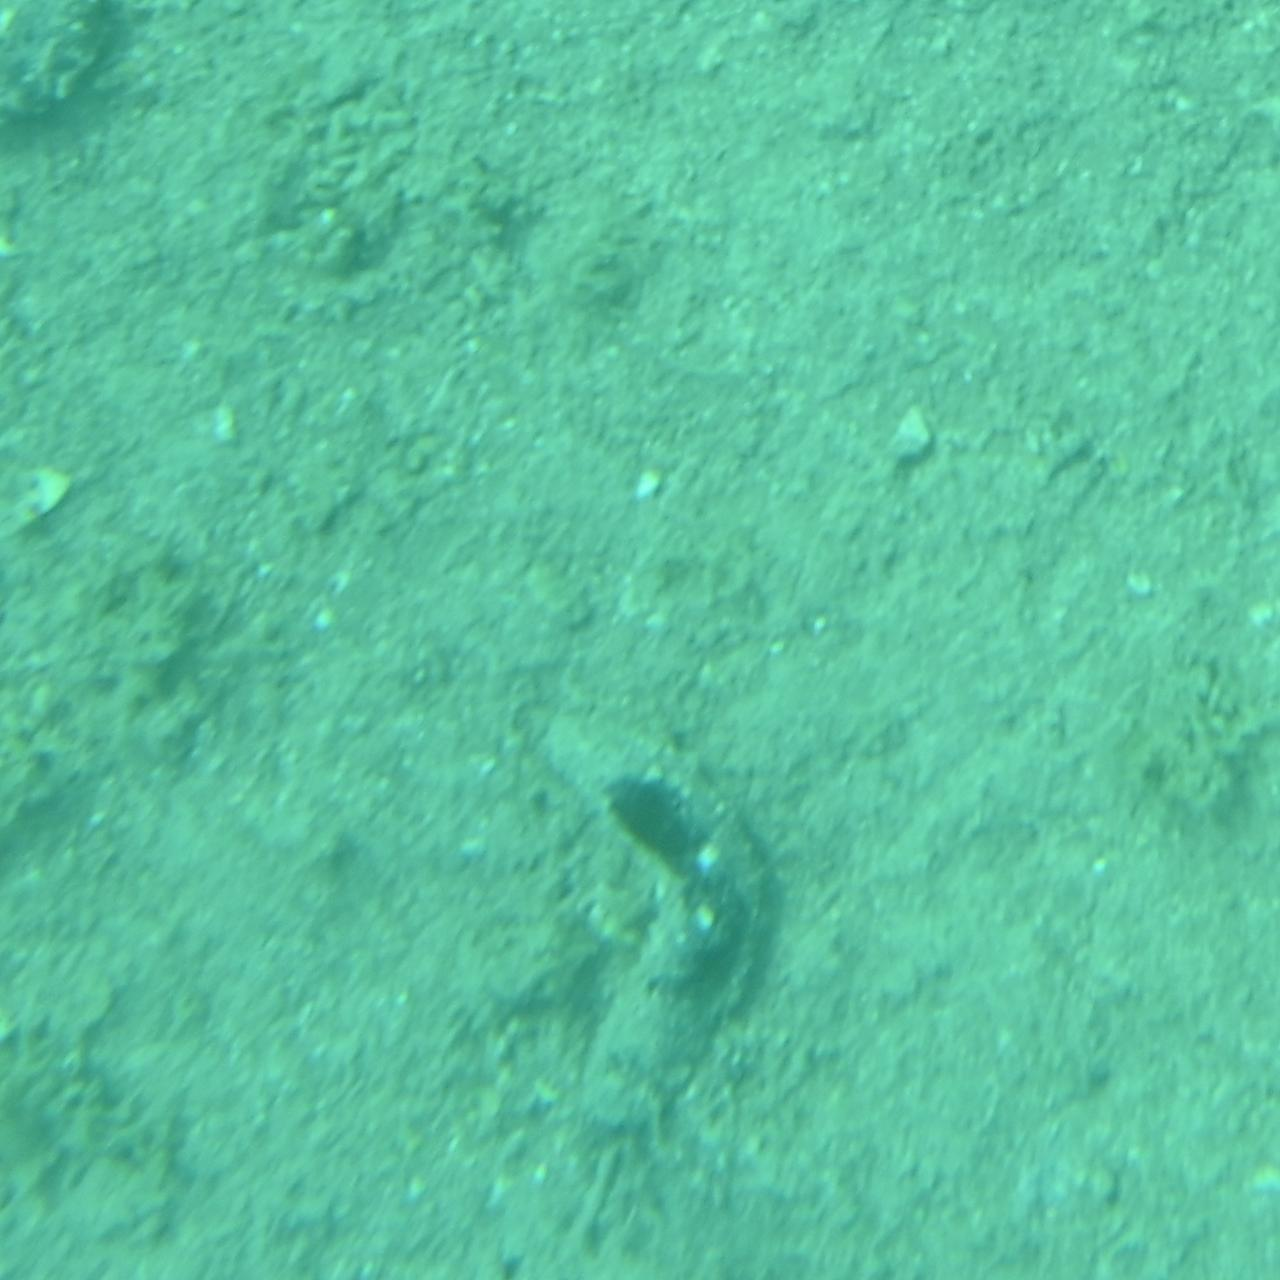Holothuria tubulosa: (518, 711, 762, 1144)
